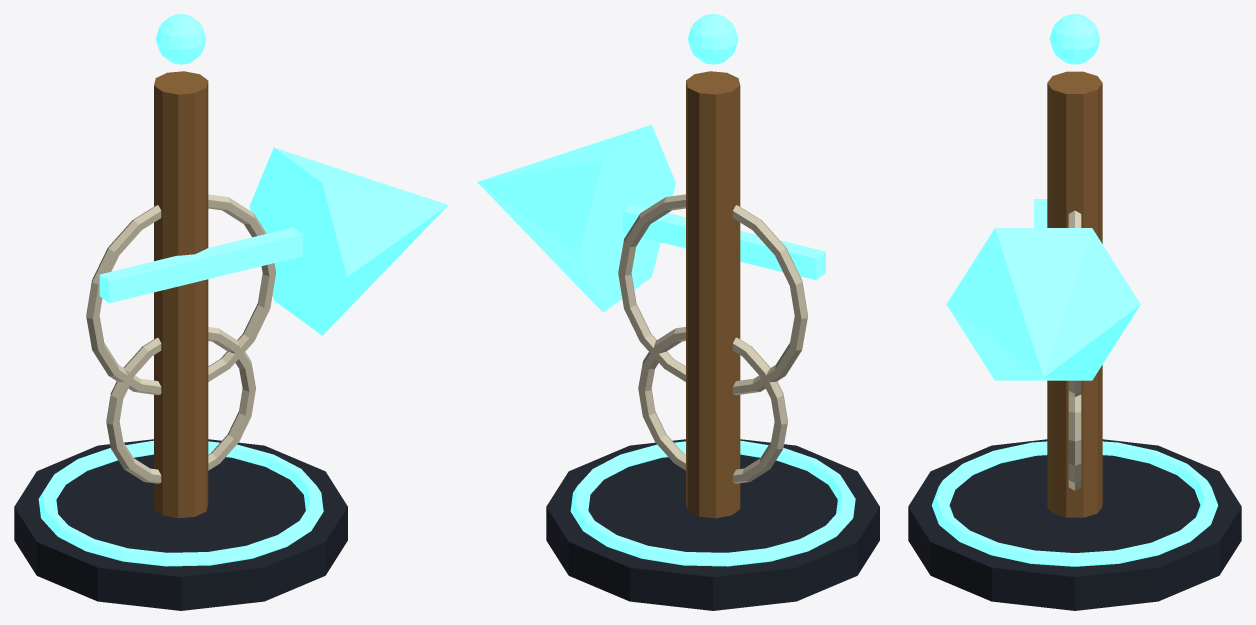
File: runtime.glb
The picture shows the model from 3 angles, left to right: view 1: azimuth 30°, elevation 25°; view 2: azimuth 150°, elevation 25°; view 3: azimuth 270°, elevation 25°; orthographic projection.
Visible parts, largest first — view 1: aetherion-orbit-beacon-v01_base_nocol, aetherion-orbit-beacon-v01_mast_nocol, aetherion-orbit-beacon-v01_direction_head_nocol, aetherion-orbit-beacon-v01_base_orbit_nocol, aetherion-orbit-beacon-v01_direction_bar_nocol, aetherion-orbit-beacon-v01_meridian_1_nocol, aetherion-orbit-beacon-v01_meridian_0_nocol, aetherion-orbit-beacon-v01_zenith_nocol; view 2: aetherion-orbit-beacon-v01_base_nocol, aetherion-orbit-beacon-v01_mast_nocol, aetherion-orbit-beacon-v01_direction_head_nocol, aetherion-orbit-beacon-v01_base_orbit_nocol, aetherion-orbit-beacon-v01_meridian_1_nocol, aetherion-orbit-beacon-v01_meridian_0_nocol, aetherion-orbit-beacon-v01_direction_bar_nocol, aetherion-orbit-beacon-v01_zenith_nocol; view 3: aetherion-orbit-beacon-v01_base_nocol, aetherion-orbit-beacon-v01_direction_head_nocol, aetherion-orbit-beacon-v01_mast_nocol, aetherion-orbit-beacon-v01_base_orbit_nocol, aetherion-orbit-beacon-v01_zenith_nocol, aetherion-orbit-beacon-v01_meridian_0_nocol.
Part boxes in pixels (x1=…): aetherion-orbit-beacon-v01_base_nocol: x1=14, y1=439, x2=347, y2=610; aetherion-orbit-beacon-v01_mast_nocol: x1=154, y1=71, x2=208, y2=518; aetherion-orbit-beacon-v01_direction_head_nocol: x1=249, y1=147, x2=448, y2=335; aetherion-orbit-beacon-v01_base_orbit_nocol: x1=38, y1=440, x2=323, y2=566; aetherion-orbit-beacon-v01_direction_bar_nocol: x1=99, y1=227, x2=302, y2=303; aetherion-orbit-beacon-v01_meridian_1_nocol: x1=86, y1=194, x2=275, y2=395; aetherion-orbit-beacon-v01_meridian_0_nocol: x1=106, y1=327, x2=255, y2=483; aetherion-orbit-beacon-v01_zenith_nocol: x1=155, y1=14, x2=206, y2=64; aetherion-orbit-beacon-v01_base_nocol: x1=546, y1=439, x2=879, y2=610; aetherion-orbit-beacon-v01_mast_nocol: x1=686, y1=71, x2=740, y2=518; aetherion-orbit-beacon-v01_direction_head_nocol: x1=477, y1=124, x2=675, y2=312; aetherion-orbit-beacon-v01_base_orbit_nocol: x1=570, y1=440, x2=855, y2=566; aetherion-orbit-beacon-v01_meridian_1_nocol: x1=618, y1=194, x2=807, y2=395; aetherion-orbit-beacon-v01_meridian_0_nocol: x1=638, y1=327, x2=787, y2=483; aetherion-orbit-beacon-v01_direction_bar_nocol: x1=622, y1=204, x2=825, y2=280; aetherion-orbit-beacon-v01_zenith_nocol: x1=687, y1=14, x2=738, y2=64; aetherion-orbit-beacon-v01_base_nocol: x1=908, y1=439, x2=1241, y2=610; aetherion-orbit-beacon-v01_direction_head_nocol: x1=946, y1=228, x2=1140, y2=380; aetherion-orbit-beacon-v01_mast_nocol: x1=1047, y1=71, x2=1102, y2=517; aetherion-orbit-beacon-v01_base_orbit_nocol: x1=931, y1=441, x2=1218, y2=566; aetherion-orbit-beacon-v01_zenith_nocol: x1=1049, y1=14, x2=1100, y2=64; aetherion-orbit-beacon-v01_meridian_0_nocol: x1=1068, y1=395, x2=1081, y2=490.
Bounding box in the file's own units: 6.12 × 7.74 × 4.46.
